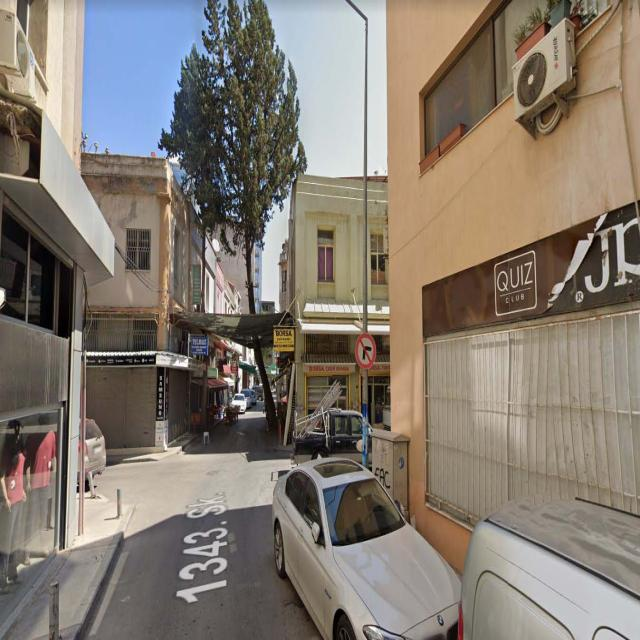sagadonulmez: (356, 334, 375, 368)
